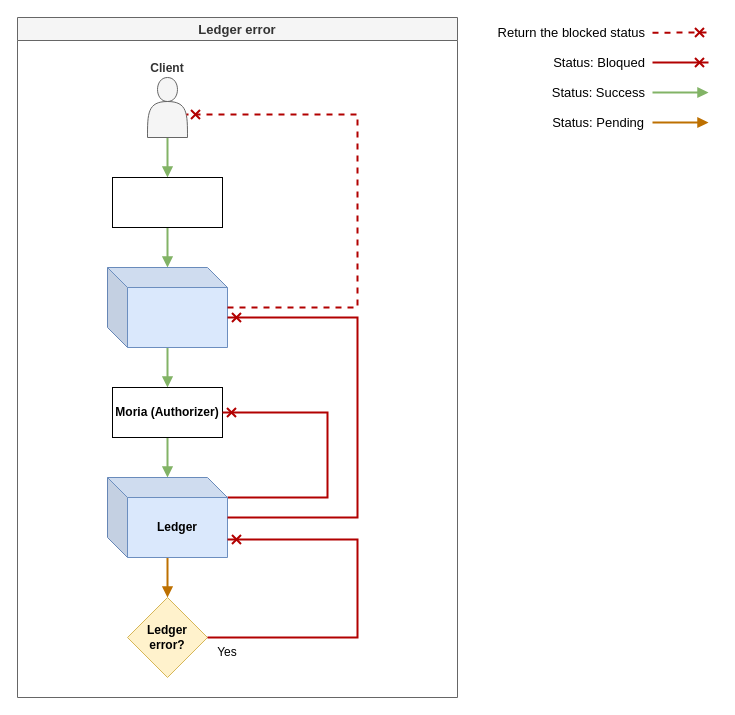
Image size: 735x715. Some labels were removed from this diagram. The centre of each missing label's shape, as x and y in pixels:
API Gateway: the point at 167,202
Pix System: the point at 167,307
